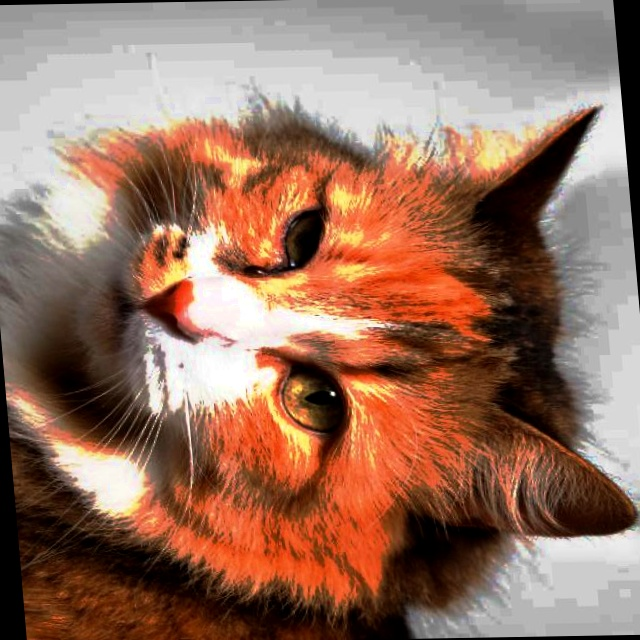eye_infection: (242, 216, 335, 280)
